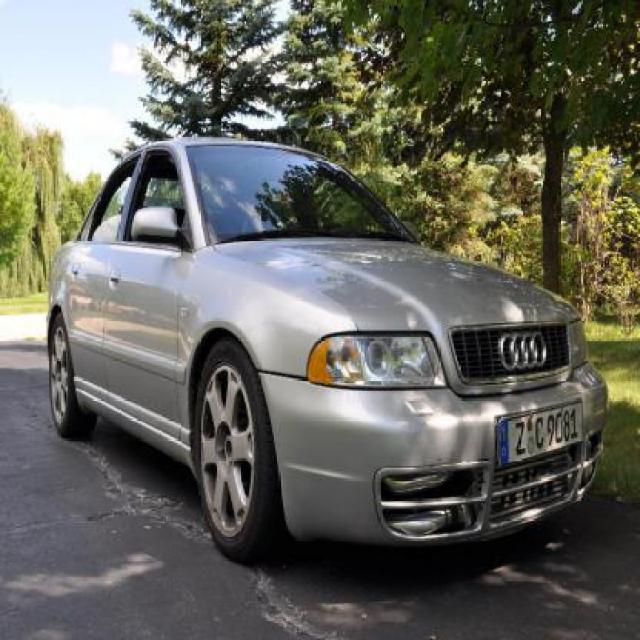License-Plates: (494, 398, 584, 470)
